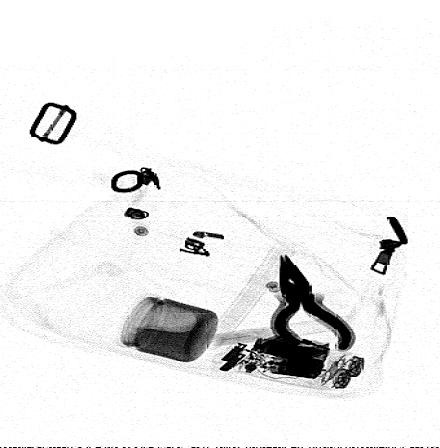Pliers: (268, 252, 355, 350)
